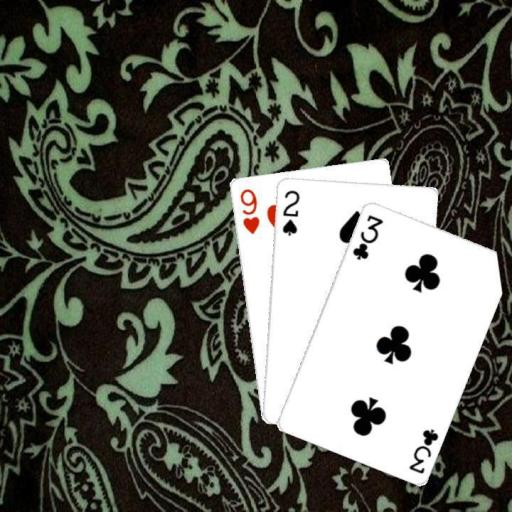card-corner: (349, 210, 385, 261), (406, 425, 440, 475), (236, 185, 261, 235), (279, 186, 301, 237)
